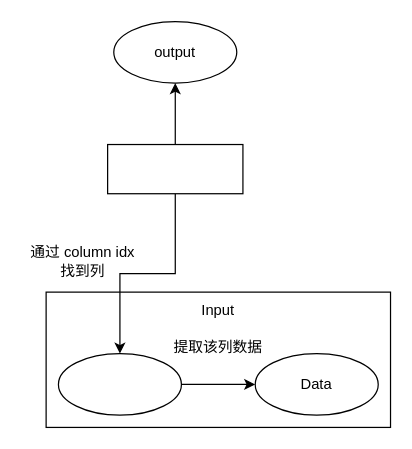
Image size: 412x449. Some labels were removed from this diagram. Each missing label, with the centre of its shape:
"Expression (如何处理)" belongs at [174,168].
"Schema （数据格式， 表形式）" belongs at [119,383].
